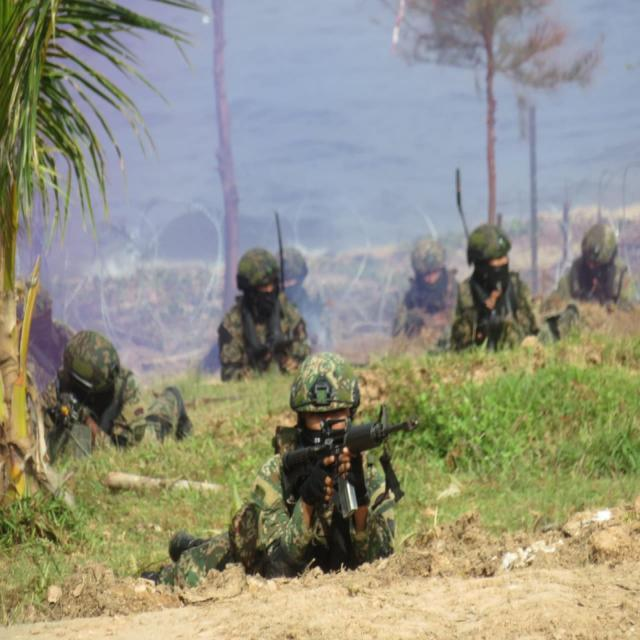m16: (224, 328, 432, 568)
